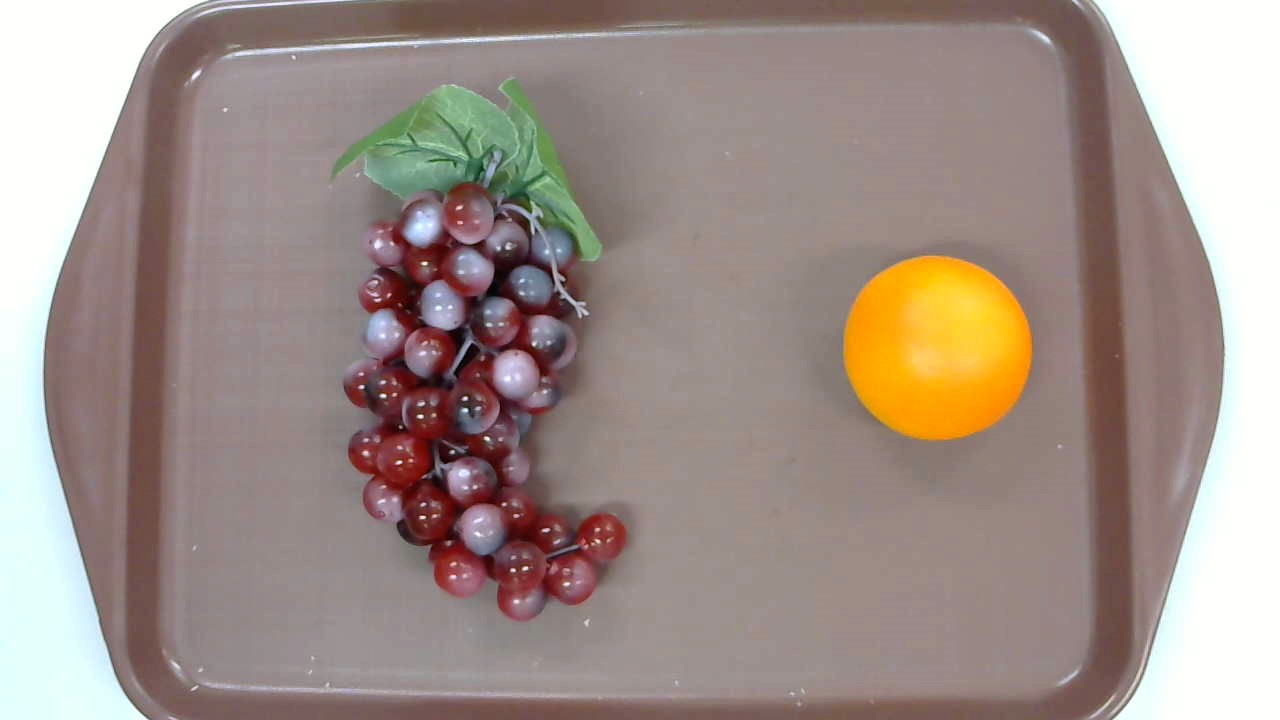bun: (839, 255, 1032, 443)
grape: (328, 74, 628, 622)
